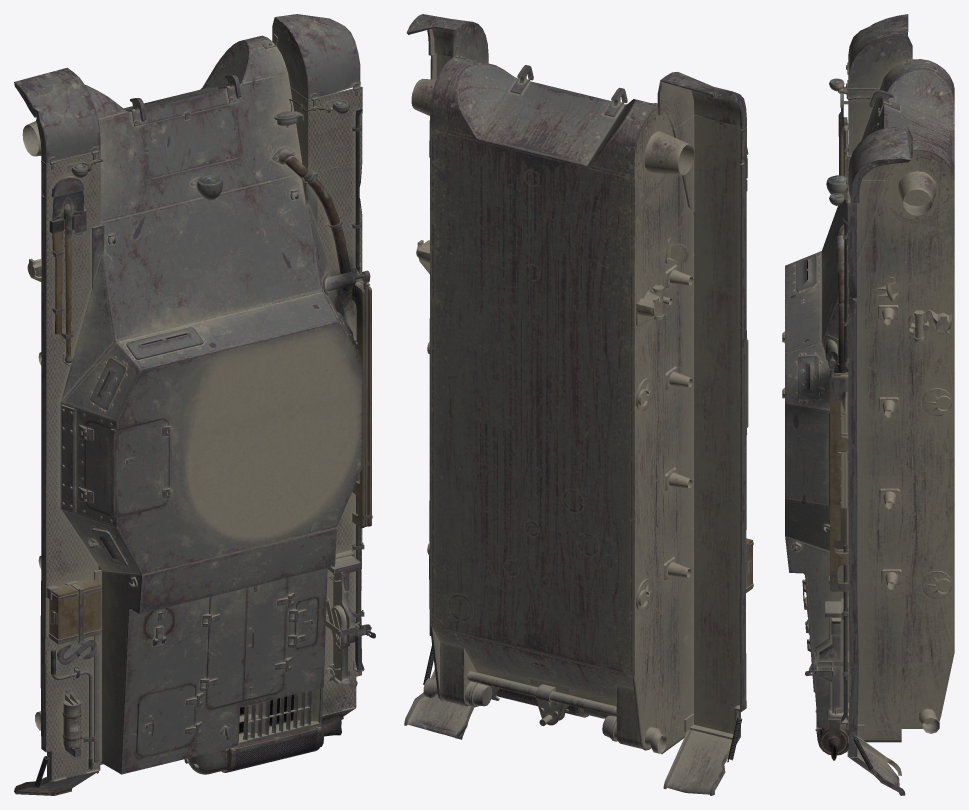
The model's file is Hull.glb.
3 views of the same model, side by side, from view 1: azimuth 30°, elevation 25°; view 2: azimuth 150°, elevation 25°; view 3: azimuth 270°, elevation 25° (orthographic). The views are drawn at different scales.
Parts seen in each view (by area): view 1: set_0_group_0; view 2: set_0_group_0; view 3: set_0_group_0.
Part boxes in pixels (x1,y1,x2,y2): set_0_group_0: (14,14,375,795); set_0_group_0: (404,14,753,795); set_0_group_0: (782,14,954,795).
Size of the model in its own units: 2.04 by 4.44 by 1.07.
1 material, 1 textured.
